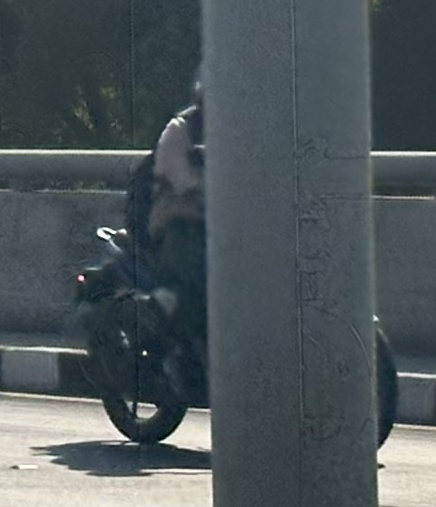BikeWithRider: (63, 49, 244, 448)
Helmet: (180, 53, 216, 114)
